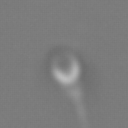abnormal: (57, 83, 102, 128)
